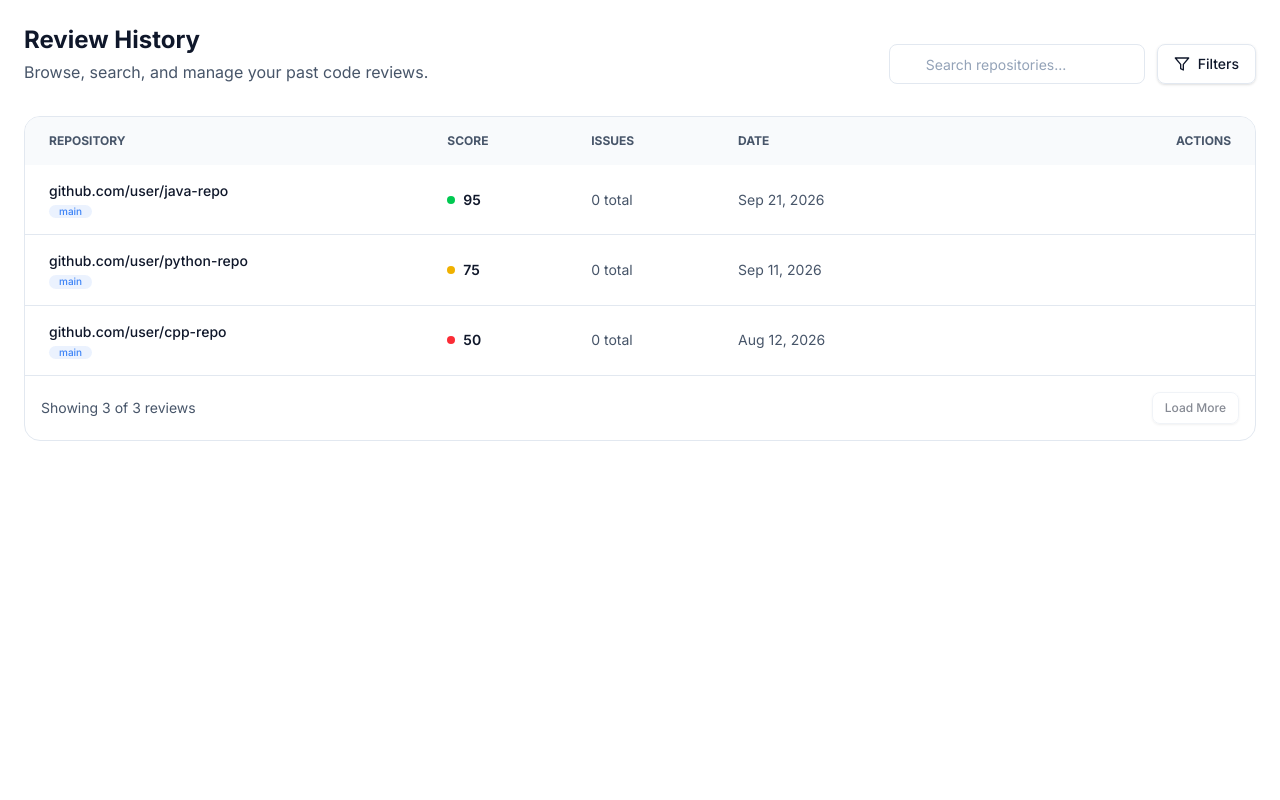
Scenario: HistoryPage Filters › Date range filter works
Expected: the link "github.com/user/java-repo" is shown, 49,182 -> 228,199
Step 1. Click the button "Filters" → (1206, 64), box 1157,44 -> 1256,84
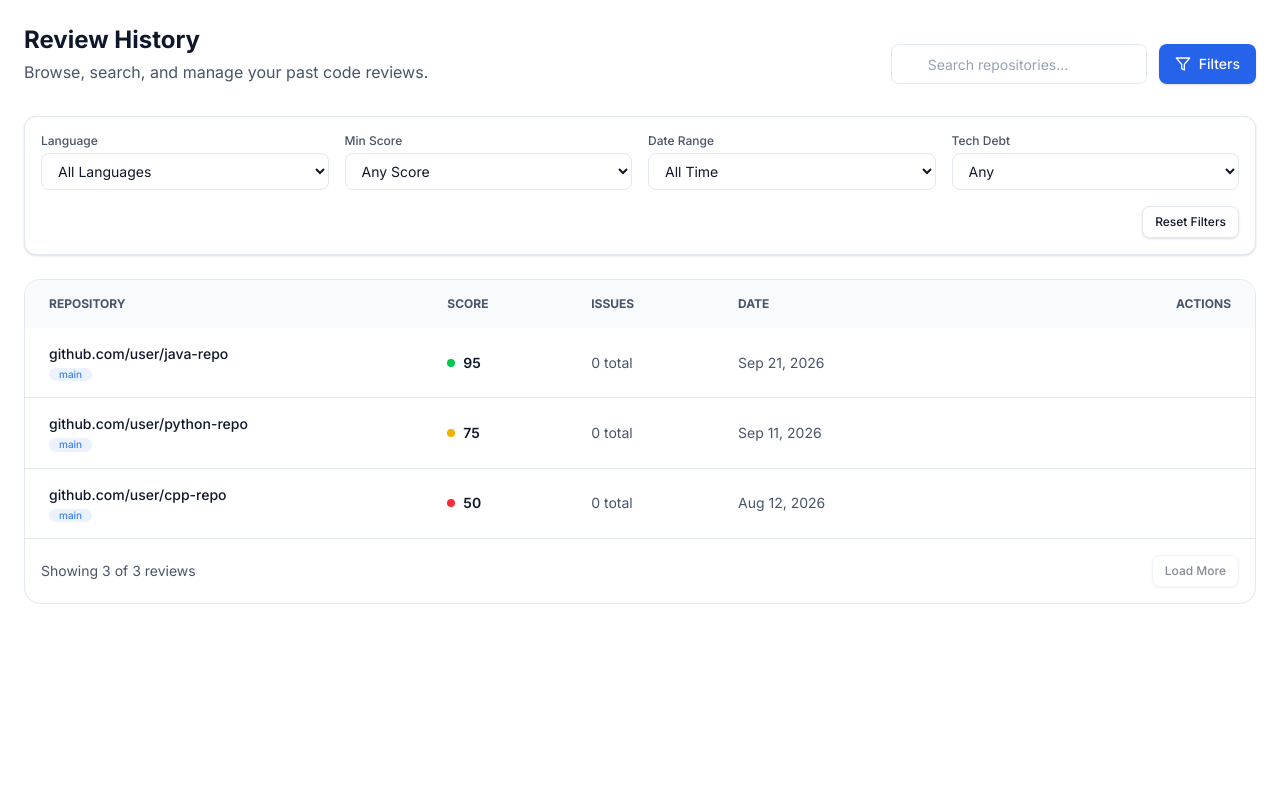
Step 2. Select "Last 7 days" in the dropdown labelled "Date Range" → (792, 172), box 648,153 -> 936,190
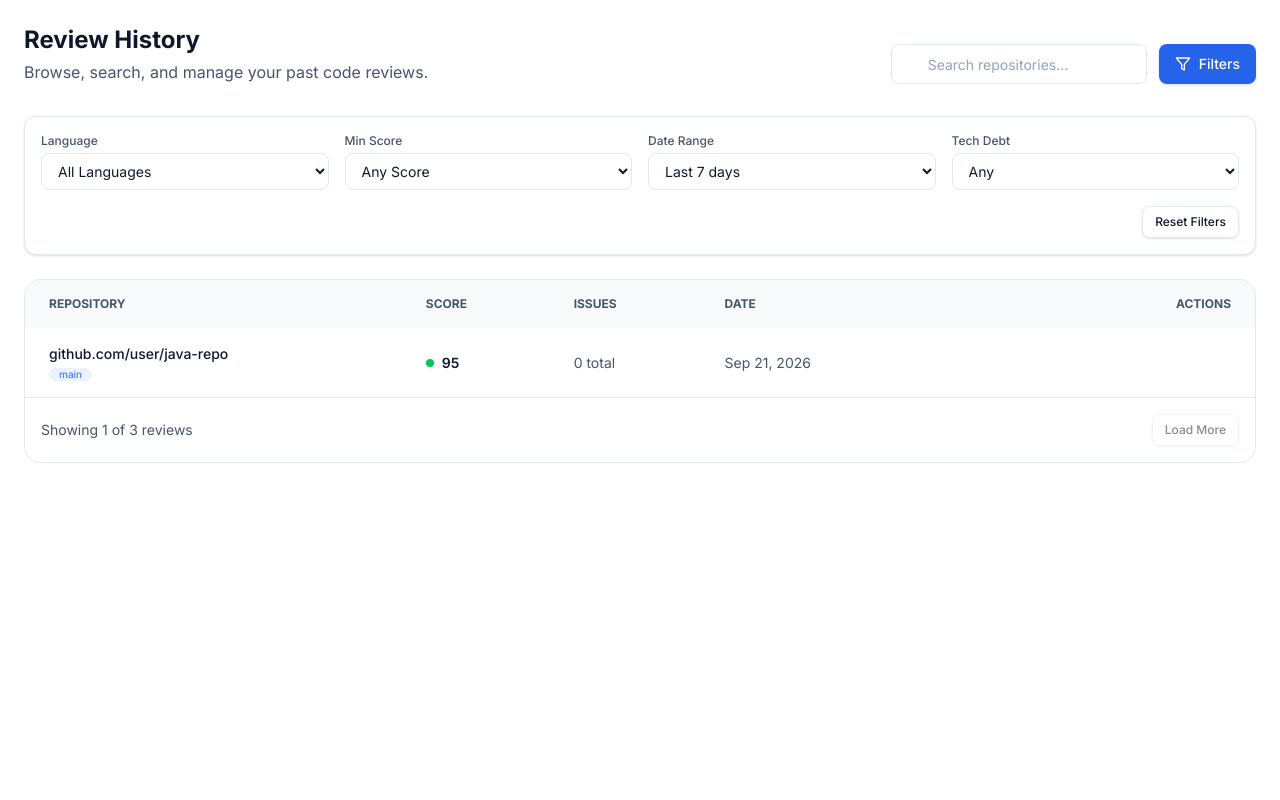
Expected: the link "github.com/user/java-repo" is shown, 49,345 -> 228,362
Now the link "github.com/user/python-repo" is gone
Now the link "github.com/user/cpp-repo" is gone
